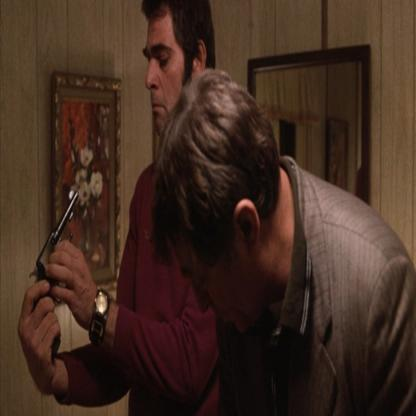gun: (25, 177, 93, 289)
